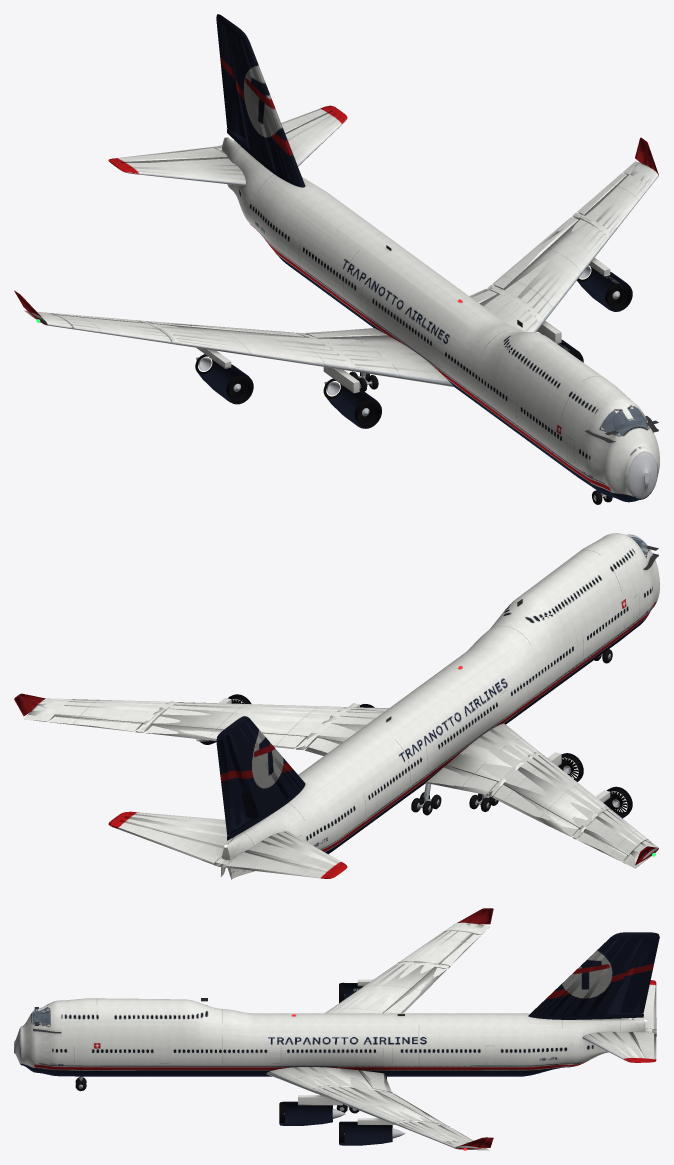
3 renders of one model, top to bottom at view 1: azimuth 30°, elevation 25°; view 2: azimuth 150°, elevation 25°; view 3: azimuth 270°, elevation 25°, orthographic. The views are drawn at different scales.
Visible parts, largest first — view 1: Skin_LOD2_mesh, Fuselage_LOD1_mesh, Wing_R_LOD0_mesh, Wing_L_LOD0_mesh, Fin_LOD0_mesh, HStab_LOD0_mesh, Fuselage_LOD0_mesh, Engine_L2_LOD0_mesh, Engine_R2_LOD0_mesh, Engine_R1_LOD0_mesh, Cabin_LOD0_mesh, Flap_Out_L_LOD0_mesh; view 2: Skin_LOD2_mesh, Fuselage_LOD1_mesh, Wing_L_LOD0_mesh, Wing_R_LOD0_mesh, Fin_LOD0_mesh, HStab_LOD0_mesh, Fuselage_LOD0_mesh, Elevator_L_LOD0_mesh, Elevator_R_LOD0_mesh, Rudder_LOD0_mesh, Flap_R_LOD0_mesh, Flap_Out_L_LOD0_mesh (+2 smaller); view 3: Skin_LOD2_mesh, Fuselage_LOD1_mesh, Fin_LOD0_mesh, Wing_L_LOD0_mesh, Fuselage_LOD0_mesh, Wing_R_LOD0_mesh, Rudder_LOD0_mesh, HStab_LOD0_mesh, Engine_L2_LOD0_mesh, Engine_L1_LOD0_mesh, Flap_Out_R_LOD0_mesh, Elevator_R_LOD0_mesh (+1 smaller).
Part boxes in pixels (x1,y1,x2,y2): Skin_LOD2_mesh: (14, 19, 659, 502); Fuselage_LOD1_mesh: (222, 137, 659, 501); Wing_R_LOD0_mesh: (25, 310, 454, 387); Wing_L_LOD0_mesh: (484, 161, 658, 332); Fin_LOD0_mesh: (216, 14, 305, 187); HStab_LOD0_mesh: (108, 106, 347, 185); Fuselage_LOD0_mesh: (222, 140, 657, 500); Engine_L2_LOD0_mesh: (579, 269, 632, 311); Engine_R2_LOD0_mesh: (199, 364, 253, 403); Engine_R1_LOD0_mesh: (328, 386, 381, 428); Cabin_LOD0_mesh: (585, 406, 658, 442); Flap_Out_L_LOD0_mesh: (493, 217, 578, 289); Skin_LOD2_mesh: (14, 533, 659, 878); Fuselage_LOD1_mesh: (220, 533, 659, 879); Wing_L_LOD0_mesh: (24, 698, 388, 749); Wing_R_LOD0_mesh: (451, 723, 658, 868); Fin_LOD0_mesh: (216, 716, 305, 840); HStab_LOD0_mesh: (108, 811, 347, 878); Fuselage_LOD0_mesh: (221, 535, 658, 878); Elevator_L_LOD0_mesh: (113, 821, 223, 862); Elevator_R_LOD0_mesh: (226, 852, 329, 878); Rudder_LOD0_mesh: (222, 737, 255, 826); Flap_R_LOD0_mesh: (426, 767, 497, 793); Flap_Out_L_LOD0_mesh: (145, 725, 305, 747); Skin_LOD2_mesh: (14, 908, 659, 1150); Fuselage_LOD1_mesh: (14, 998, 645, 1076); Fin_LOD0_mesh: (528, 932, 659, 1019); Wing_L_LOD0_mesh: (266, 1067, 489, 1150); Fuselage_LOD0_mesh: (14, 1001, 645, 1076); Wing_R_LOD0_mesh: (325, 922, 489, 1013); Rudder_LOD0_mesh: (618, 937, 659, 1013); HStab_LOD0_mesh: (582, 980, 654, 1062); Engine_L2_LOD0_mesh: (339, 1121, 392, 1145); Engine_L1_LOD0_mesh: (279, 1102, 332, 1125); Flap_Out_R_LOD0_mesh: (384, 967, 446, 1013); Elevator_R_LOD0_mesh: (633, 982, 655, 1028).
Size of the model in its own units: 60.71 by 19.33 by 72.23.
Materials: 20 (1 with a texture image).
